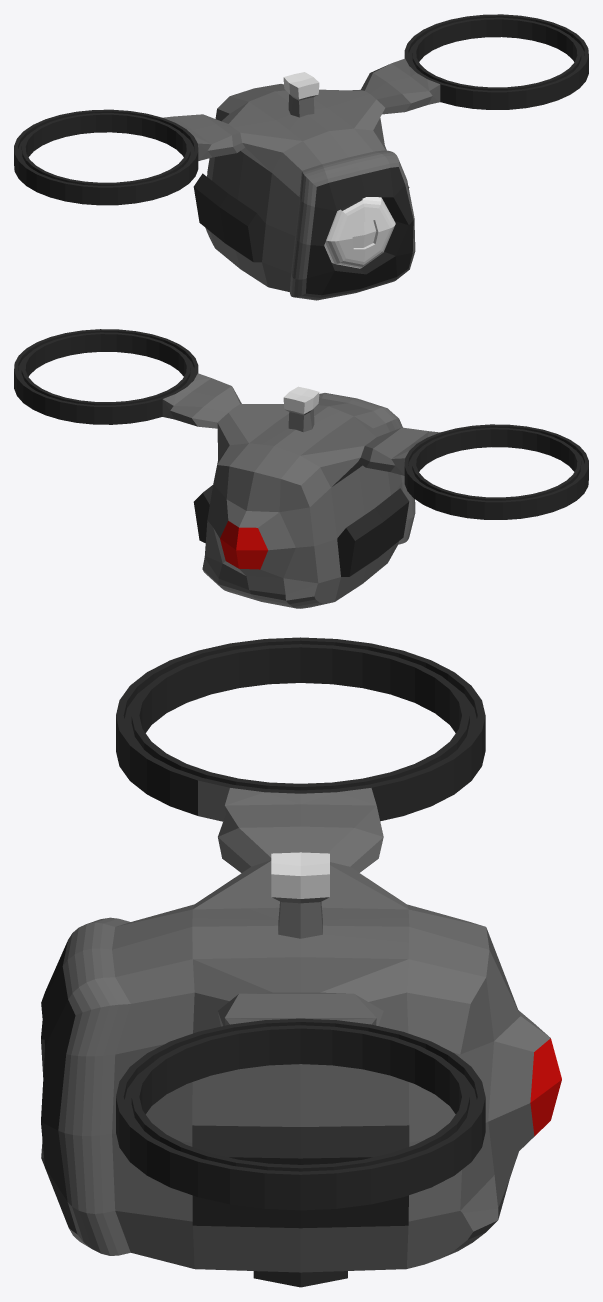
The model's file is dronev4.fbx.
3 renders of one model, top to bottom at view 1: azimuth 30°, elevation 25°; view 2: azimuth 150°, elevation 25°; view 3: azimuth 270°, elevation 25°, orthographic. The views are drawn at different scales.
Parts seen in each view (by area): view 1: Cube.001; view 2: Cube.001; view 3: Cube.001.
Boxes of the visible parts, left/top/right/bottom form: Cube.001: left=14, top=14, right=588, bottom=300; Cube.001: left=14, top=329, right=588, bottom=608; Cube.001: left=41, top=637, right=561, bottom=1287.
Bounding box in the file's own units: 1460 × 510 × 598.
